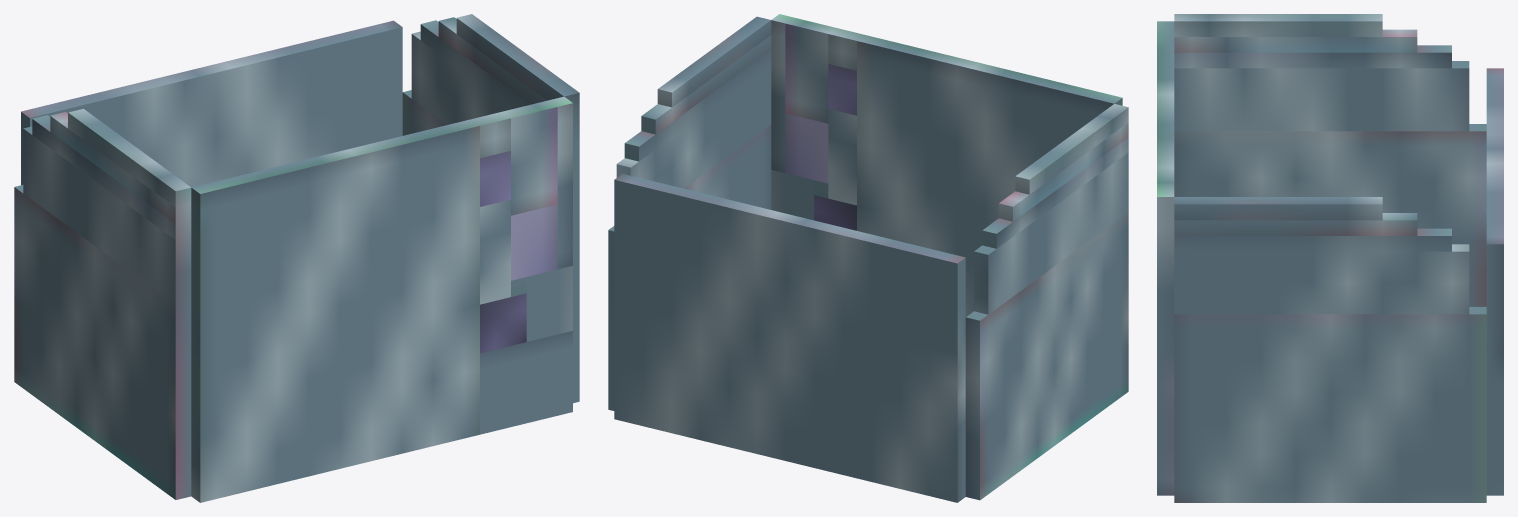
The model's file is Machine_CatchaDoll_Glass_00.fbx.
The picture shows the model from 3 angles, left to right: view 1: azimuth 30°, elevation 25°; view 2: azimuth 150°, elevation 25°; view 3: azimuth 270°, elevation 25°; orthographic projection. The views are drawn at different scales.
Visible parts, largest first — view 1: Machine_CatchaDoll_Glass_00; view 2: Machine_CatchaDoll_Glass_00; view 3: Machine_CatchaDoll_Glass_00.
Boxes of the visible parts, bbox=[...] form: Machine_CatchaDoll_Glass_00: bbox=[14, 14, 579, 502]; Machine_CatchaDoll_Glass_00: bbox=[608, 14, 1128, 502]; Machine_CatchaDoll_Glass_00: bbox=[1157, 14, 1503, 502].
Bounding box in the file's own units: 130 × 95 × 100.
